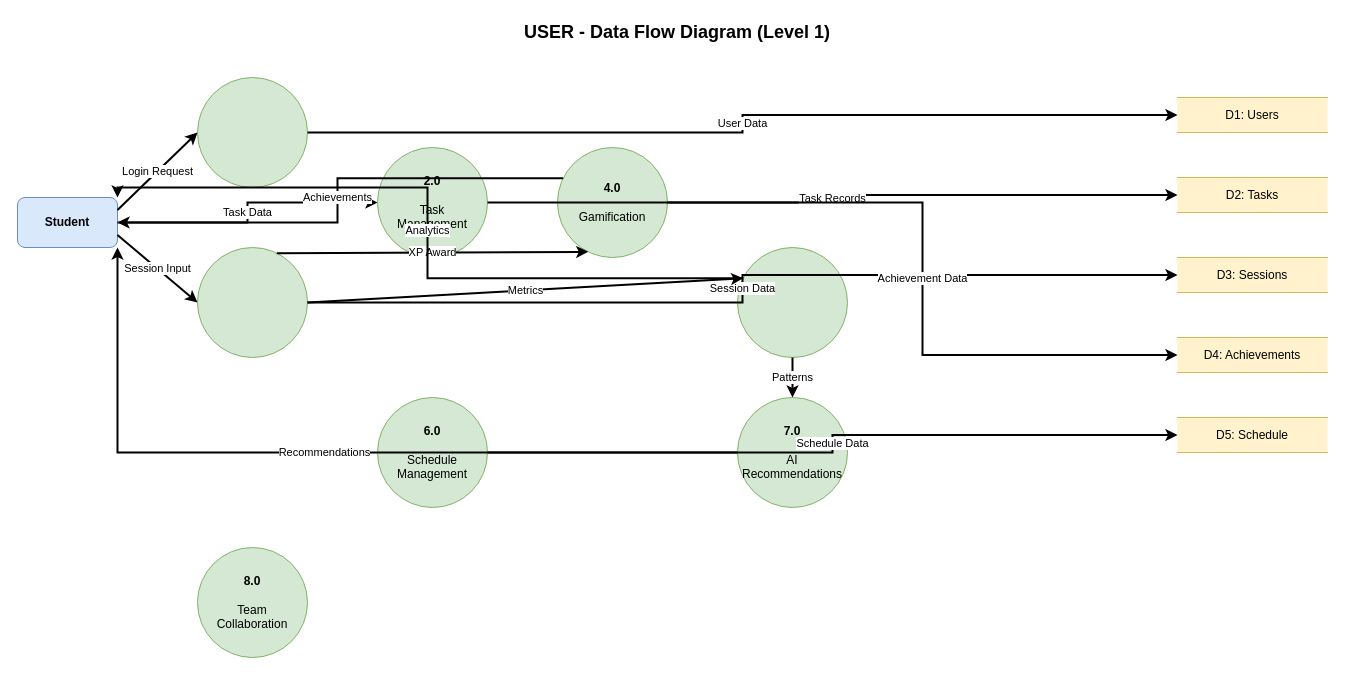
Image size: 1345x675. Some labels were removed from this diagram. Each missing label, with the centre of its shape:
1.0 User Login & Auth: (252,132)
3.0 Study Session Tracking: (252,302)
5.0 Analytics Processing: (792,302)
